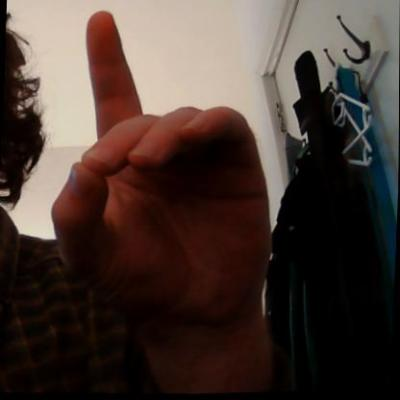hand: (45, 2, 284, 332)
